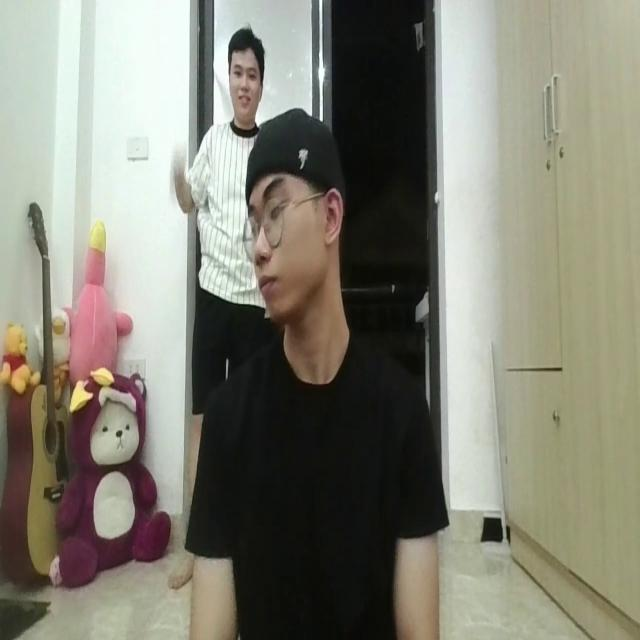extra_person: (176, 27, 278, 347)
student: (192, 104, 442, 640)
